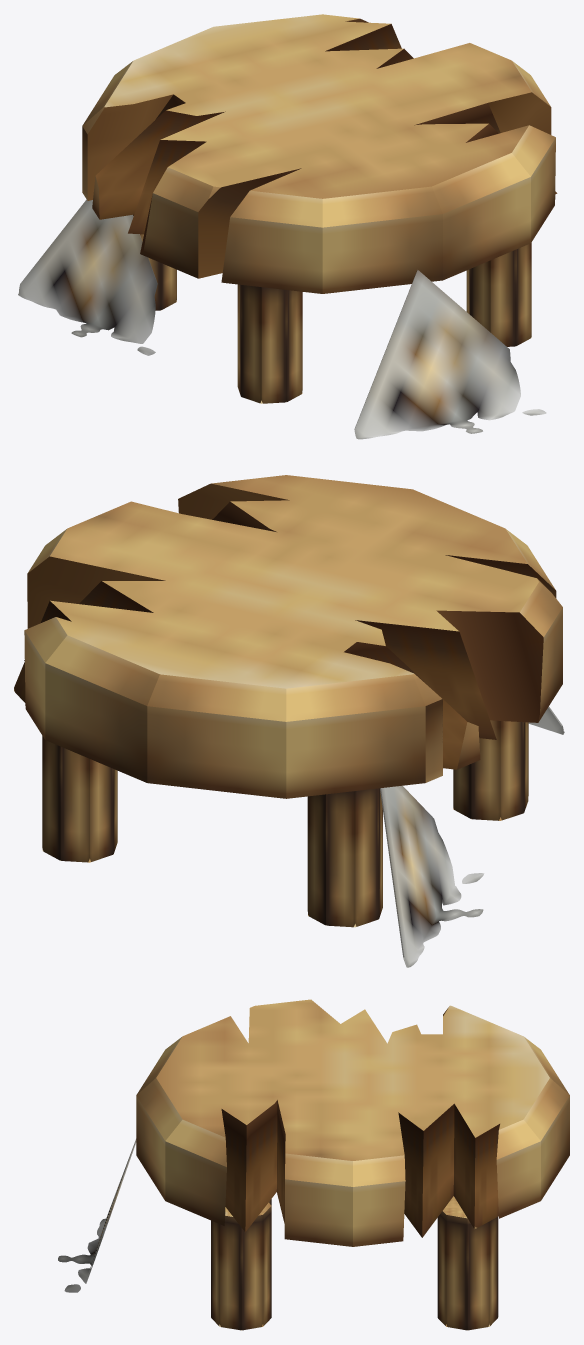
Rendered from Inside_Poly_Chair_05_Damaged.obj.
3 renders of one model, top to bottom at view 1: azimuth 30°, elevation 25°; view 2: azimuth 150°, elevation 25°; view 3: azimuth 270°, elevation 25°, orthographic. The views are drawn at different scales.
Visible parts, largest first — view 1: Cube.001, Plane, Cube; view 2: Cube.001, Cube, Plane; view 3: Cube.001, Cube, Plane.
Part boxes in pixels (x1=…): Cube.001: x1=82, y1=14, x2=557, y2=293; Plane: x1=18, y1=199, x2=546, y2=439; Cube: x1=133, y1=214, x2=531, y2=403; Cube.001: x1=14, y1=475, x2=562, y2=798; Cube: x1=42, y1=720, x2=528, y2=927; Plane: x1=380, y1=706, x2=564, y2=967; Cube.001: x1=136, y1=999, x2=569, y2=1246; Cube: x1=211, y1=1196, x2=498, y2=1330; Plane: x1=58, y1=1139, x2=136, y2=1292.
Bounding box in the file's own units: 0.7064 × 0.3145 × 0.8337.
Materials: 1 (1 with a texture image).
